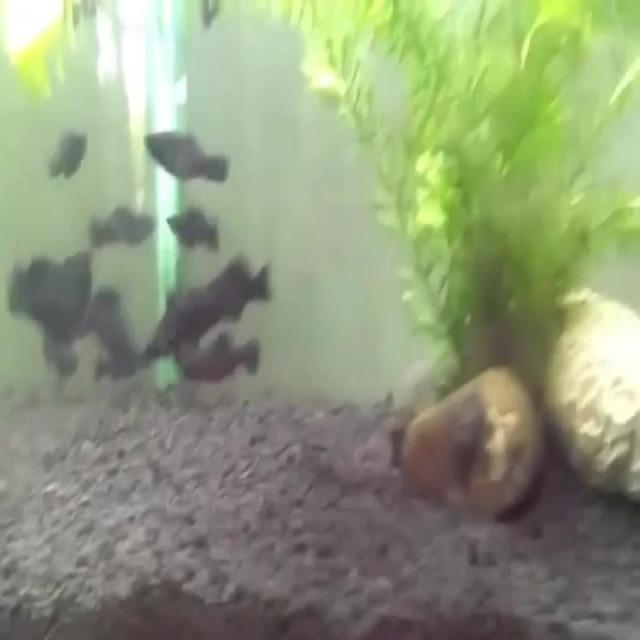PlatyFish: (137, 124, 234, 189), (163, 204, 225, 259)
